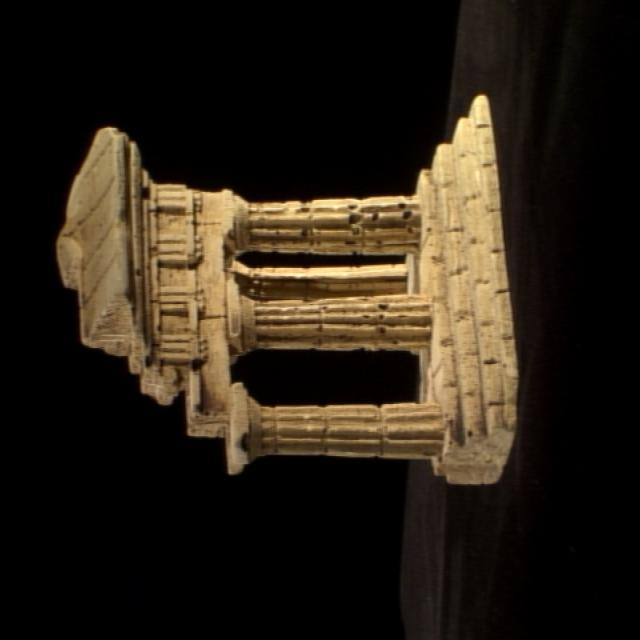Instance-Segmentation: (58, 95, 517, 483)
